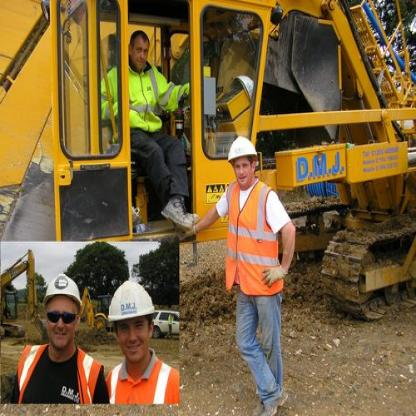person: (192, 132, 307, 407)
